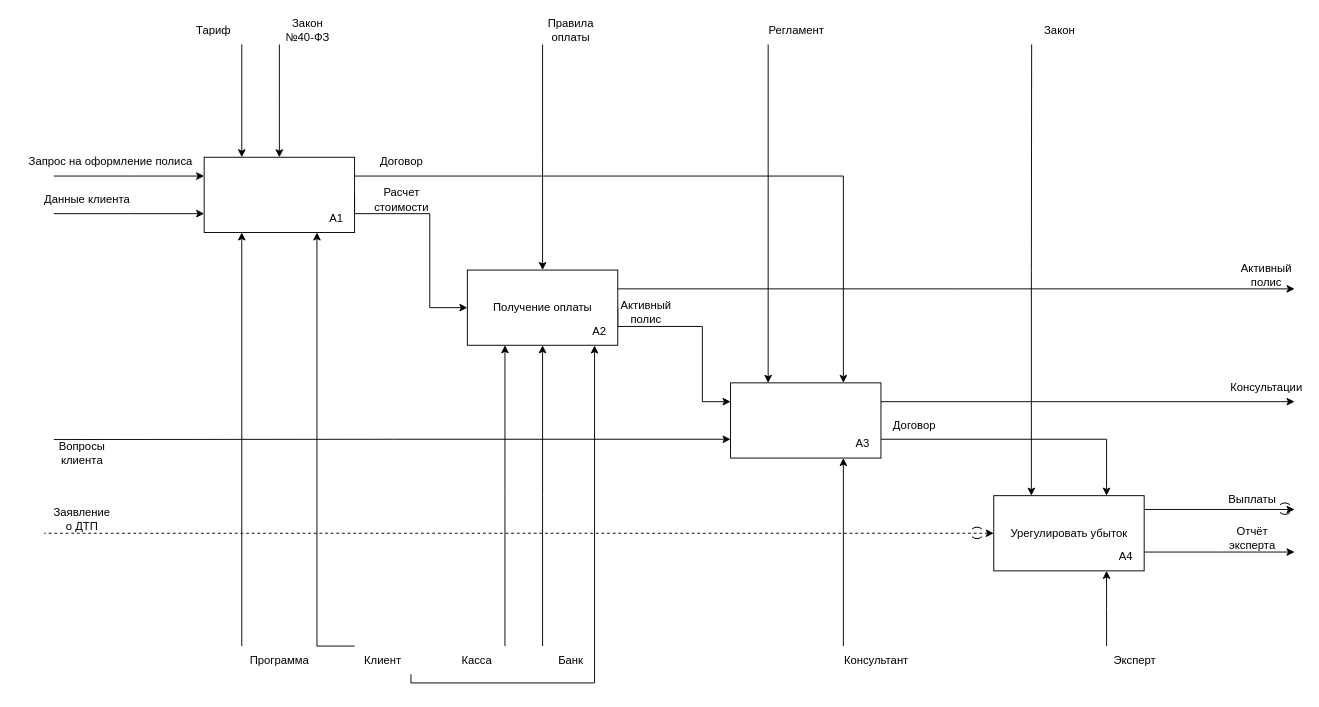
The diagram is 1319 pixels wide and 707 high, and some of its shapes have lost their labels. Here are the shapes that lost their labels. From the top down, the box of each, then its label:
(203, 156, 355, 232): Расчет и оформление
(730, 382, 881, 458): Обслуживание в течении срока
